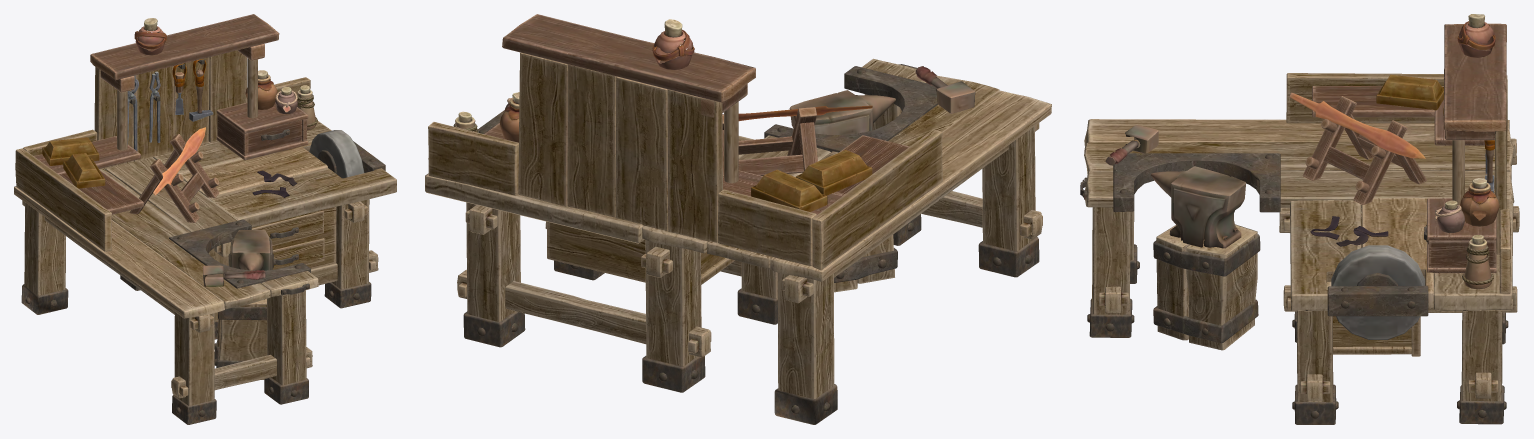
3 renders of one model, left to right at view 1: azimuth 30°, elevation 25°; view 2: azimuth 150°, elevation 25°; view 3: azimuth 270°, elevation 25°, orthographic. The views are drawn at different scales.
Visible parts, largest first — view 1: SM_MeleeBench_LOD0; view 2: SM_MeleeBench_LOD0; view 3: SM_MeleeBench_LOD0.
Boxes of the visible parts, bbox=[...] form: SM_MeleeBench_LOD0: bbox=[14, 14, 396, 424]; SM_MeleeBench_LOD0: bbox=[425, 14, 1051, 424]; SM_MeleeBench_LOD0: bbox=[1080, 14, 1519, 424].
Bounding box in the file's own units: 2.54 × 2.13 × 2.63.
Materials: 3 (3 with a texture image).
